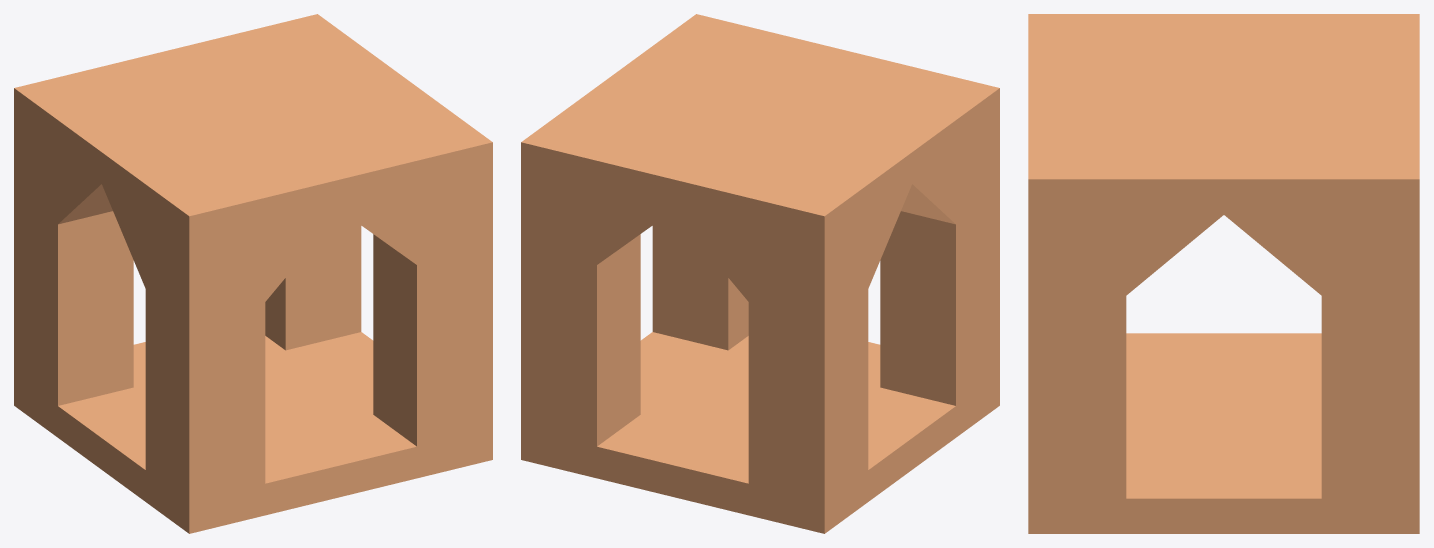
Rendered from Ground_002.fbx.
The picture shows the model from 3 angles, left to right: view 1: azimuth 30°, elevation 25°; view 2: azimuth 150°, elevation 25°; view 3: azimuth 270°, elevation 25°; orthographic projection. The views are drawn at different scales.
Visible parts, largest first — view 1: Ground.002; view 2: Ground.002; view 3: Ground.002.
Boxes of the visible parts, x1,y1,x2,y2 form: Ground.002: [14, 14, 492, 533]; Ground.002: [521, 14, 999, 533]; Ground.002: [1028, 14, 1419, 533].
Size of the model in its own units: 100 by 100 by 100.
